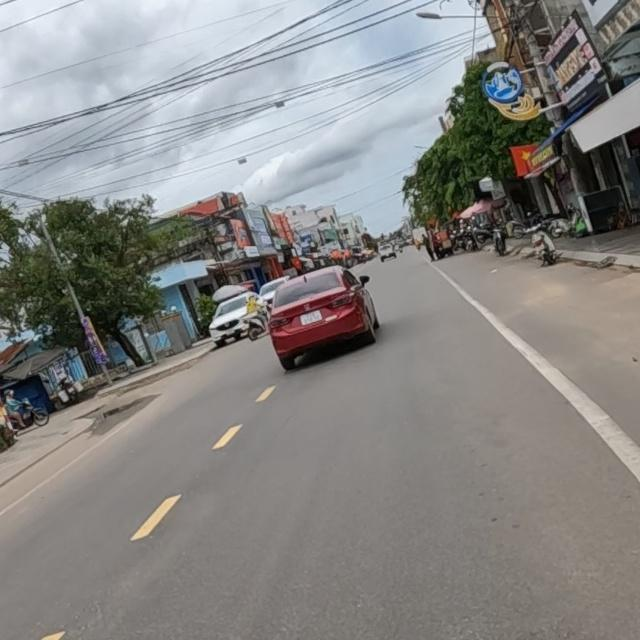license-plate: (299, 309, 323, 325)
